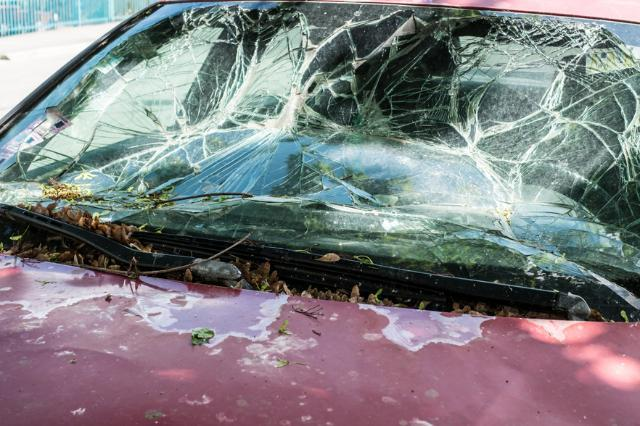Bonnet: (0, 255, 638, 426)
Windshield: (0, 0, 637, 282)
